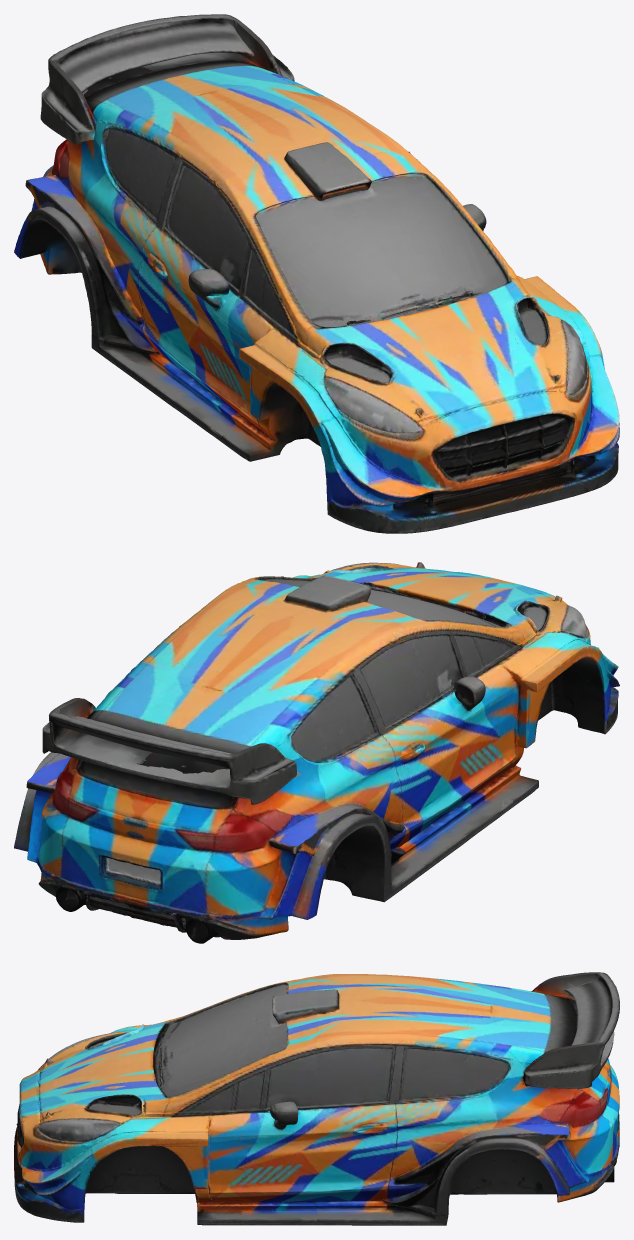
Rendered from car_kodiak_raid.glb.
3 renders of one model, top to bottom at view 1: azimuth 30°, elevation 25°; view 2: azimuth 150°, elevation 25°; view 3: azimuth 270°, elevation 25°, orthographic. The views are drawn at different scales.
Parts seen in each view (by area): view 1: tmp80ijktzwobj; view 2: tmp80ijktzwobj; view 3: tmp80ijktzwobj.
Part boxes in pixels (x1,y1,x2,y2): tmp80ijktzwobj: [14, 14, 619, 533]; tmp80ijktzwobj: [14, 562, 619, 943]; tmp80ijktzwobj: [14, 972, 619, 1225].
Size of the model in its own units: 0.4545 by 0.3153 by 1.
Materials: 1 (1 with a texture image).
